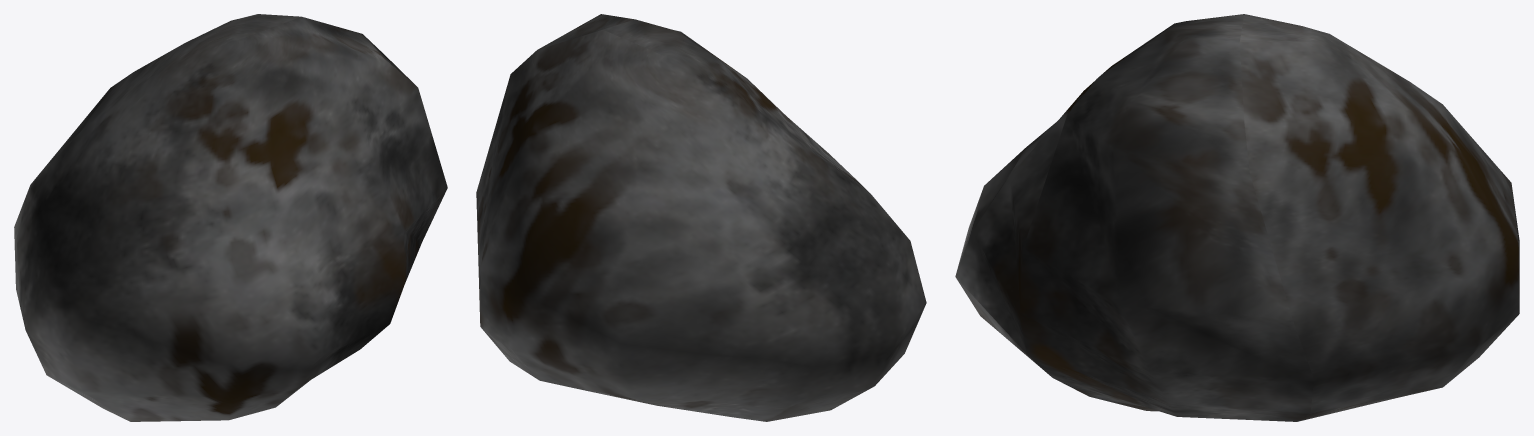
File: Obstacles_Asteroid_003.fbx
The picture shows the model from 3 angles, left to right: view 1: azimuth 30°, elevation 25°; view 2: azimuth 150°, elevation 25°; view 3: azimuth 270°, elevation 25°; orthographic projection. The views are drawn at different scales.
Visible parts, largest first — view 1: Asteroid_3; view 2: Asteroid_3; view 3: Asteroid_3.
Part boxes in pixels (left/top/right/bottom): Asteroid_3: left=14, top=14, right=447, bottom=421; Asteroid_3: left=476, top=14, right=926, bottom=421; Asteroid_3: left=955, top=14, right=1519, bottom=421.
Size of the model in its own units: 1.52 by 1.31 by 1.54.
